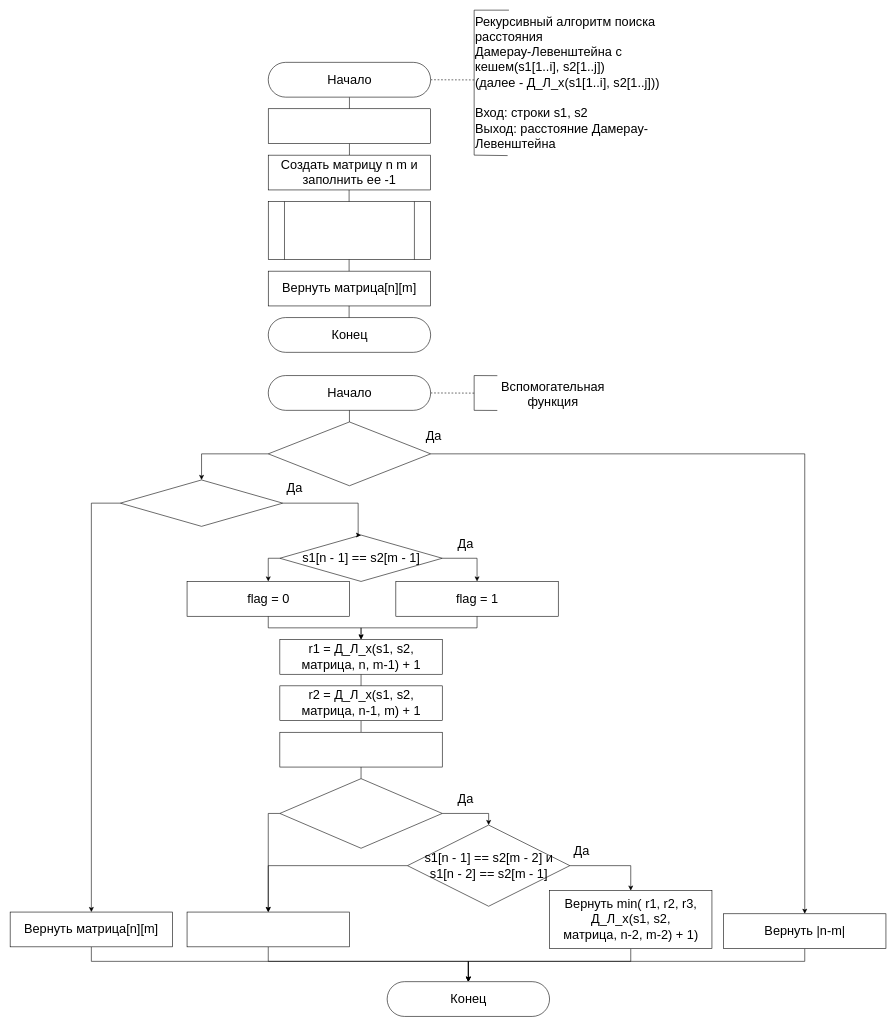
This 896x1027 diagram has some shape labels left out. Each missing label, with the centre of its shape:
"n = длина (s1) m = длина (s2)" belongs at pixel 349 126.
"n == 0 или m == 0" belongs at pixel 349 453.
"n > 1 и m > 1" belongs at pixel 360 813.
"r3 = Д_Л_х(s1, s2, матрица, n-1, m-1) + flag" belongs at pixel 360 749.
"Вернуть min(r1, r2, r3)" belongs at pixel 267 929.
"Вызвать вспомогательную функцию" belongs at pixel 349 230.
"матрица[n][m] == -1" belongs at pixel 201 502.
